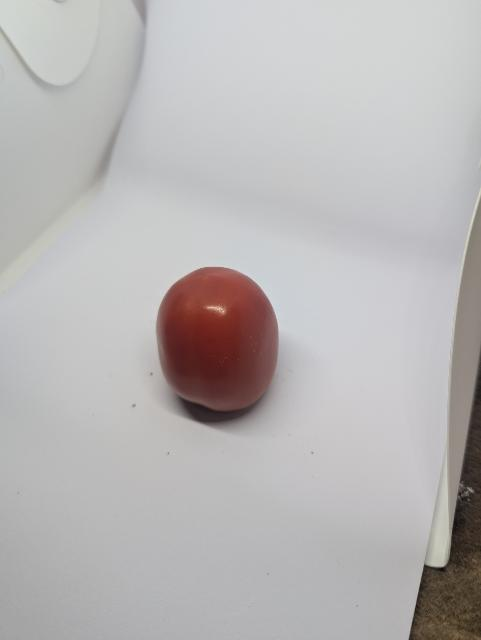red: (155, 265, 282, 413)
